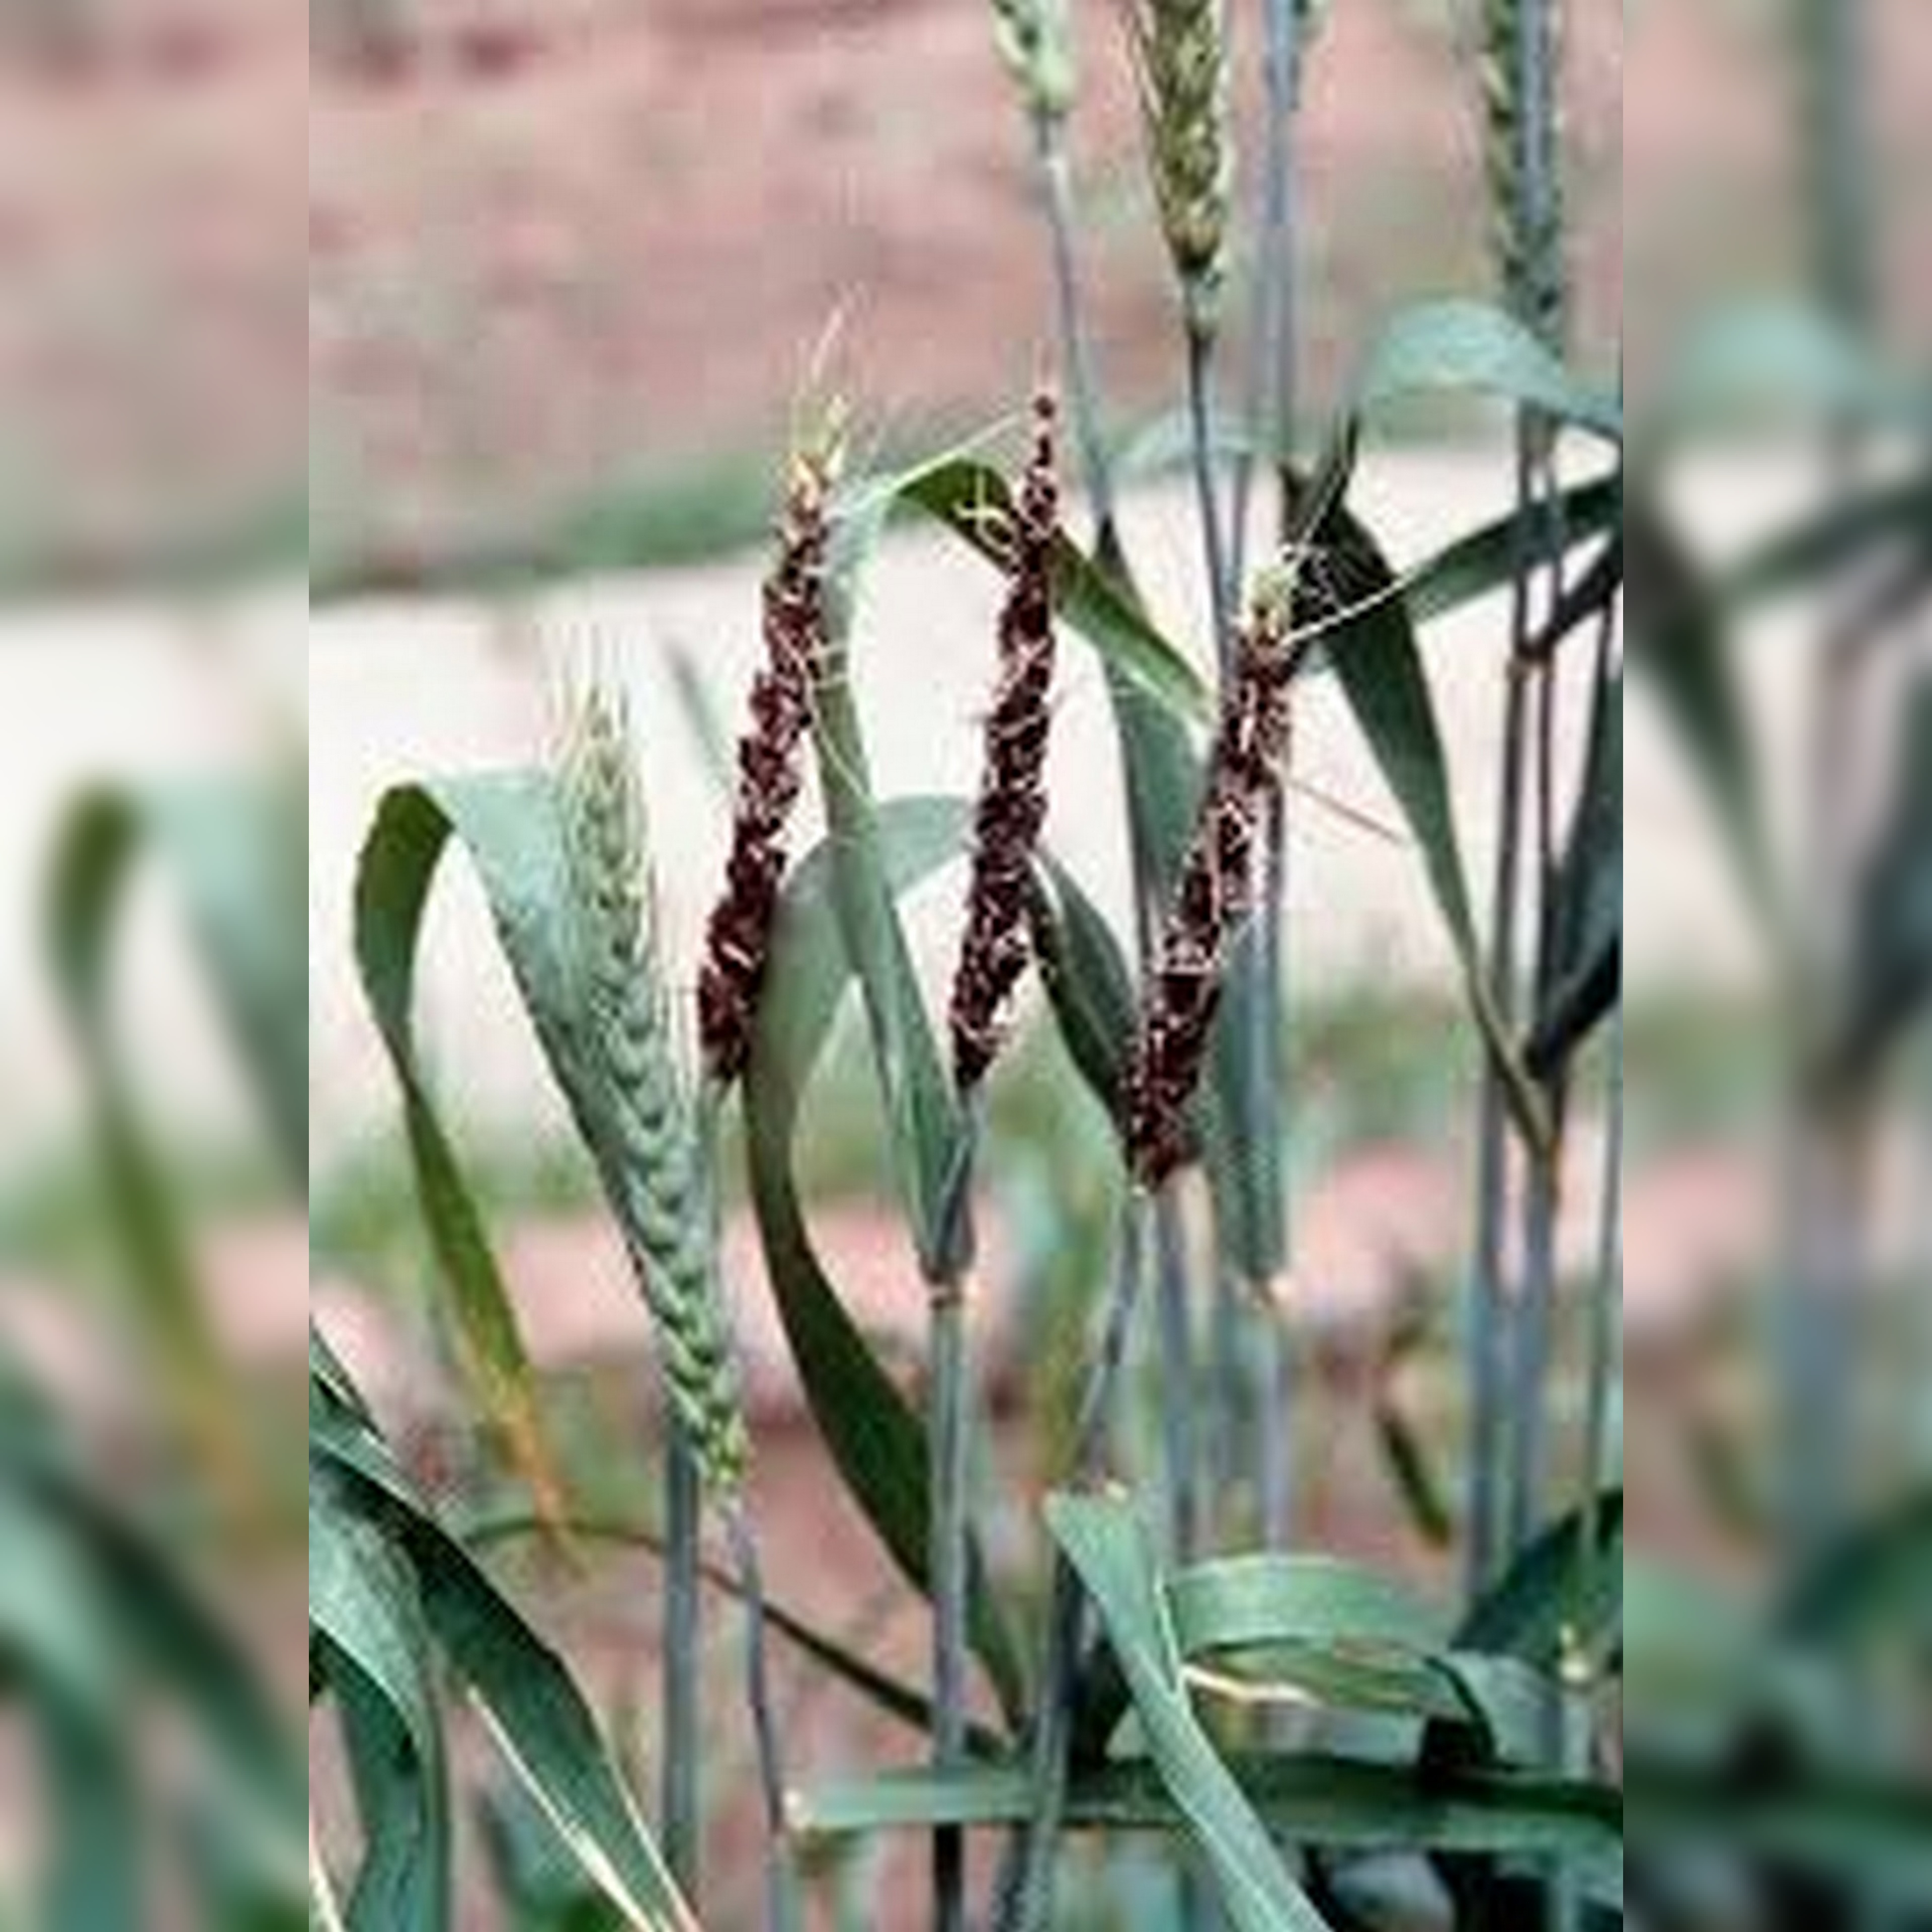Wheat Loose Smut: (663, 410, 1315, 1166)
